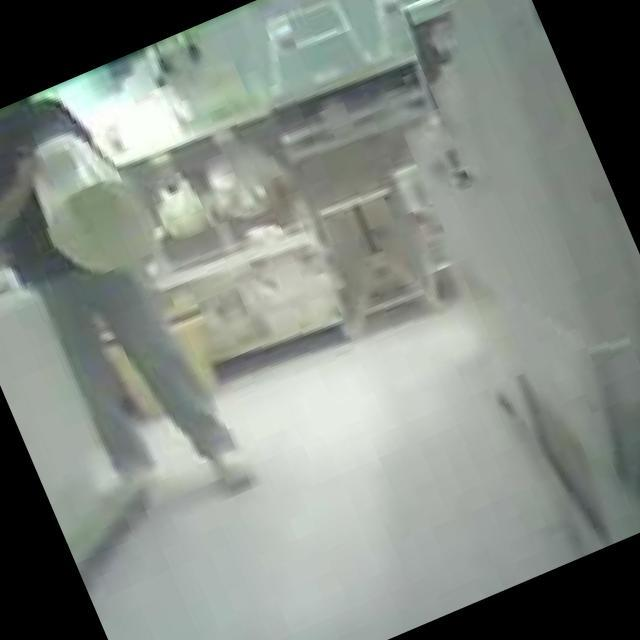person: (0, 68, 267, 545)
